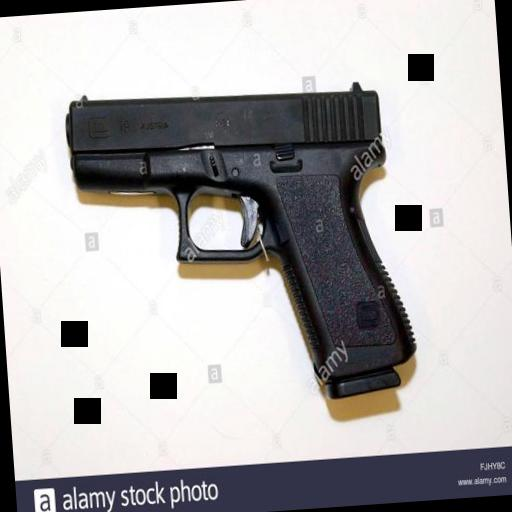Handgun: (60, 72, 418, 414)
